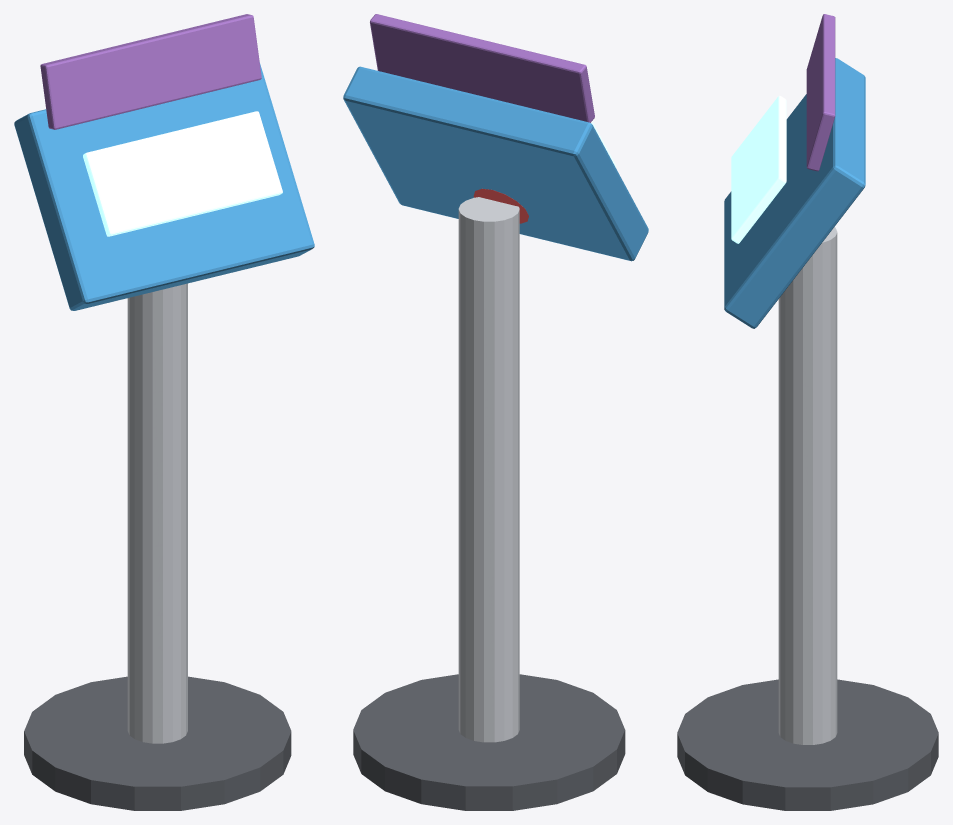
The model's file is Podium.fbx.
3 renders of one model, left to right at view 1: azimuth 30°, elevation 25°; view 2: azimuth 150°, elevation 25°; view 3: azimuth 270°, elevation 25°, orthographic. The views are drawn at different scales.
Visible parts, largest first — view 1: PodiumHead, PodiumPole, PodiumBase, PodiumScreen, PodiumSign; view 2: PodiumPole, PodiumHead, PodiumBase, PodiumSign, PodiumButton; view 3: PodiumPole, PodiumBase, PodiumHead, PodiumScreen, PodiumSign.
Part boxes in pixels (x1,y1,x2,y2): PodiumHead: (14,62,314,310); PodiumPole: (127,283,187,743); PodiumBase: (24,676,291,810); PodiumScreen: (83,111,282,236); PodiumSign: (40,14,261,129); PodiumPole: (458,197,519,742); PodiumHead: (343,66,648,261); PodiumBase: (353,674,625,810); PodiumSign: (370,14,594,122); PodiumButton: (473,188,528,223); PodiumPole: (778,227,837,744); PodiumBase: (677,679,938,810); PodiumHead: (724,58,865,328); PodiumScreen: (731,95,786,243); PodiumSign: (806,14,835,171).
Size of the model in its own units: 0.4 by 1.17 by 0.4.
